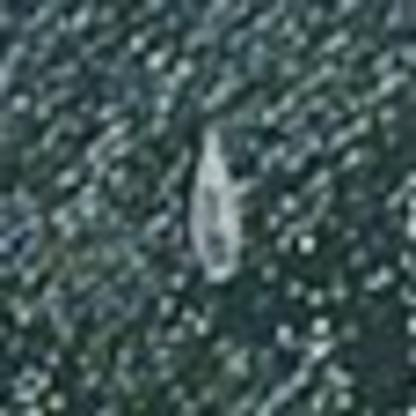ship: (171, 122, 261, 292)
